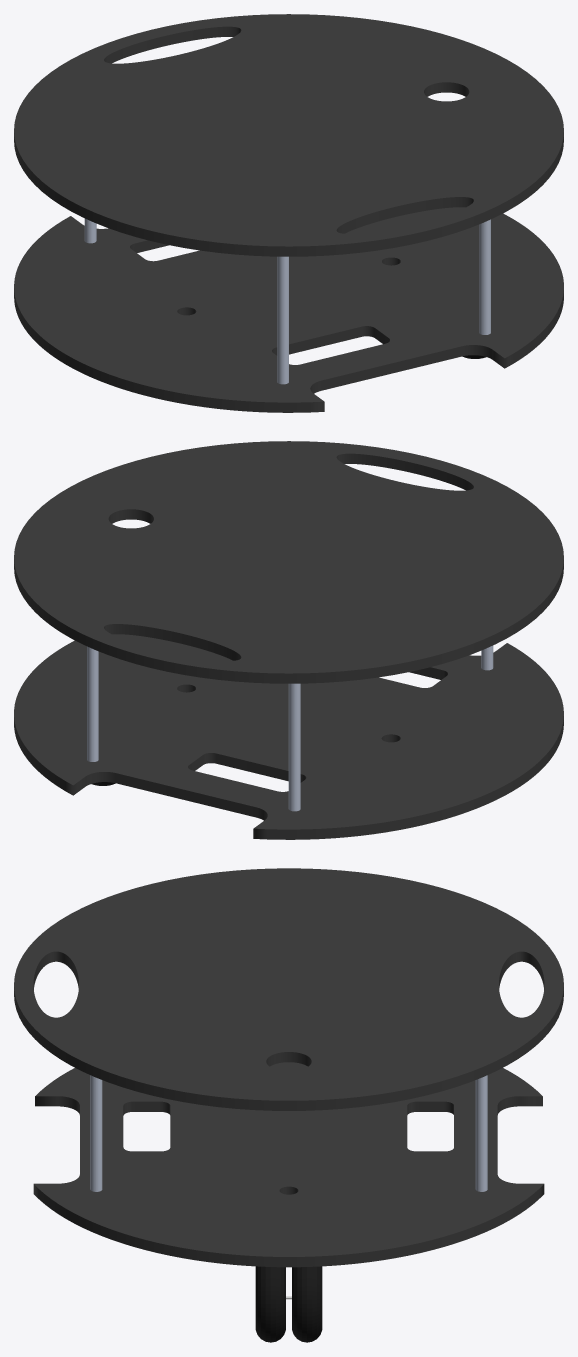
The model's file is arlo_base.dae.
3 renders of one model, top to bottom at view 1: azimuth 30°, elevation 25°; view 2: azimuth 150°, elevation 25°; view 3: azimuth 270°, elevation 25°, orthographic.
Visible parts, largest first — view 1: tapa_arriba, tapa_abajo, poste1, poste4; view 2: tapa_arriba, tapa_abajo, poste2, poste3; view 3: tapa_arriba, tapa_abajo, caucho_der, caucho_izq, poste3, poste4.
Boxes of the visible parts, left/top/right/bottom form: tapa_arriba: left=14, top=14, right=563, bottom=256; tapa_abajo: left=14, top=207, right=563, bottom=412; poste1: left=277, top=256, right=288, bottom=384; poste4: left=479, top=219, right=490, bottom=334; tapa_arriba: left=14, top=441, right=563, bottom=683; tapa_abajo: left=14, top=634, right=563, bottom=839; poste2: left=288, top=683, right=300, bottom=811; poste3: left=87, top=646, right=98, bottom=761; tapa_arriba: left=14, top=868, right=563, bottom=1110; tapa_abajo: left=33, top=1062, right=544, bottom=1267; caucho_der: left=255, top=1266, right=285, bottom=1342; caucho_izq: left=292, top=1266, right=322, bottom=1342; poste3: left=475, top=1075, right=487, bottom=1191; poste4: left=90, top=1075, right=102, bottom=1191.
Bounding box in the file's own units: 57.61 × 57.57 × 30.57.
